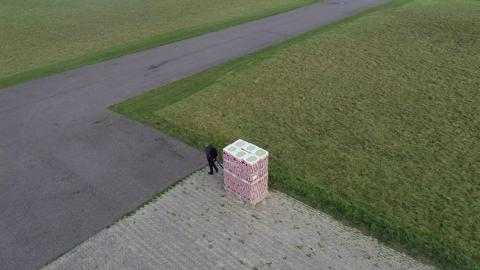RockwoolPallet: (222, 138, 269, 205)
